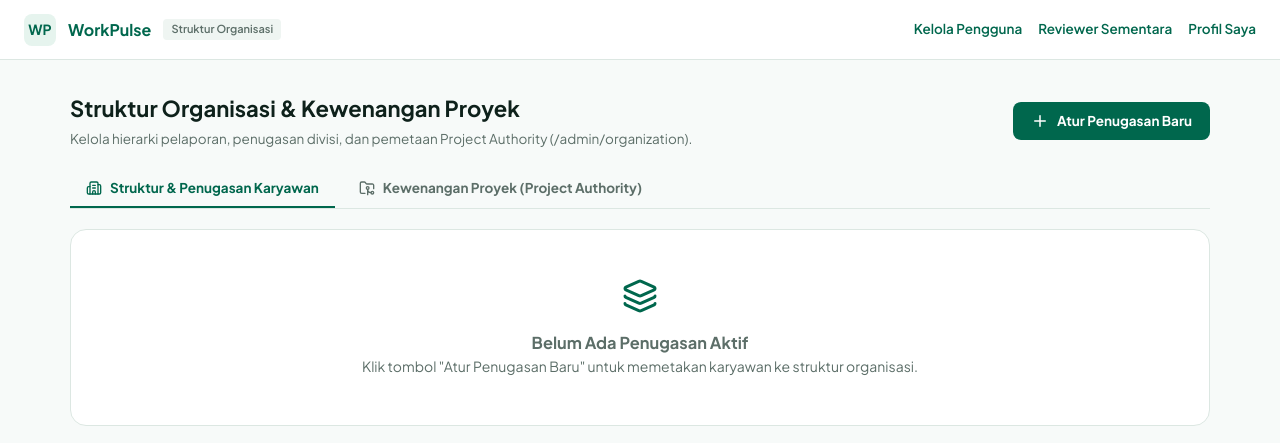
it: OrgMappingView.vue (WP-EP03-TK007 / Prototipe 15) › switches between Org tab and Project Authority tab on click
Note: Klik tab Kewenangan Proyek
Click the button with class "tab-bar-btn" that starts with "Kewenangan Proyek (Project Authority)": coordinates (500, 189) [343,169,658,208]
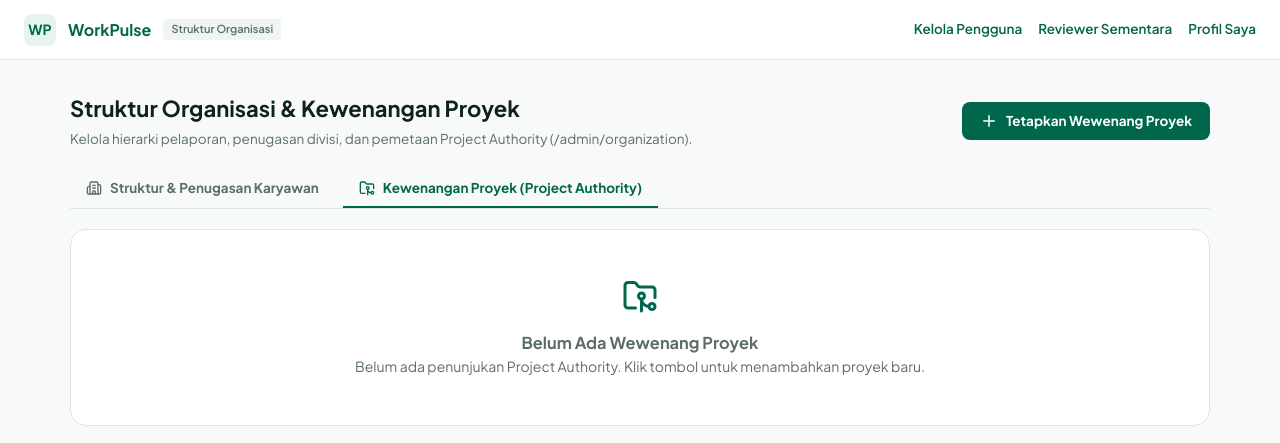
Expected: the text "Tetapkan Wewenang Proyek" is shown, [1006,112,1192,129]
Note: Klik tab Struktur Organisasi
Click the button with class "tab-bar-btn" showing "Struktur & Penugasan Karyawan": coordinates (202, 189) [70,169,335,208]
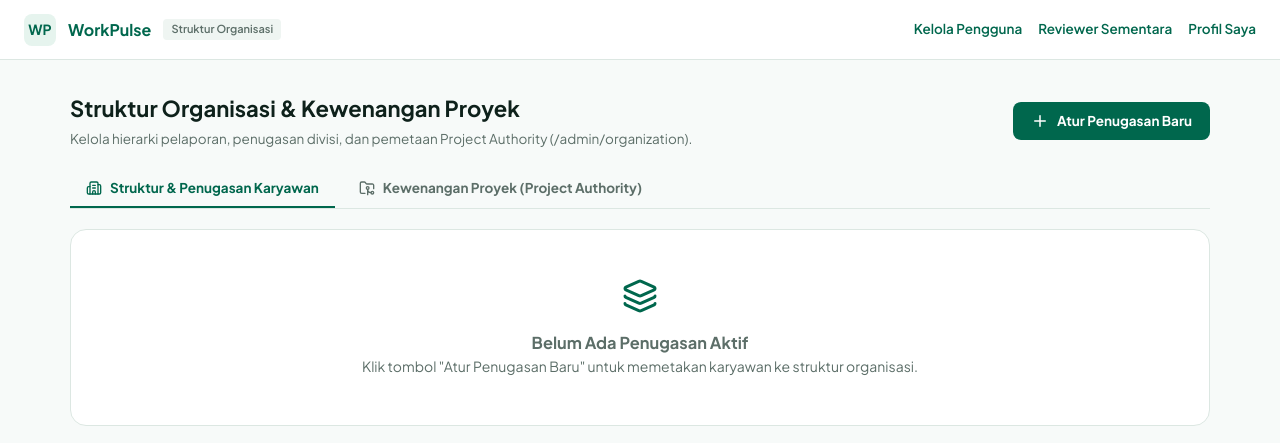
Expected: the text "Atur Penugasan Baru" is shown, [1057,112,1192,129]
